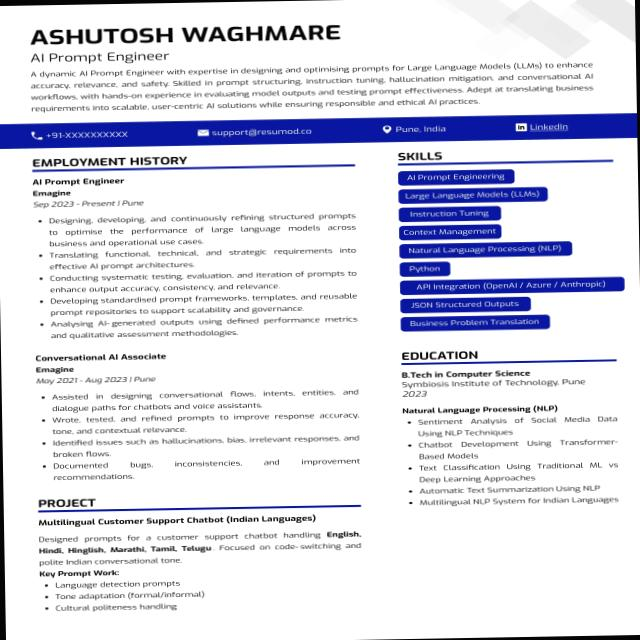contact: (7, 118, 610, 149)
education: (389, 345, 633, 524)
experience: (0, 148, 380, 492)
header: (22, 20, 352, 67)
projects: (8, 486, 390, 640)
skills: (386, 144, 628, 338)
summary: (28, 59, 605, 118)
